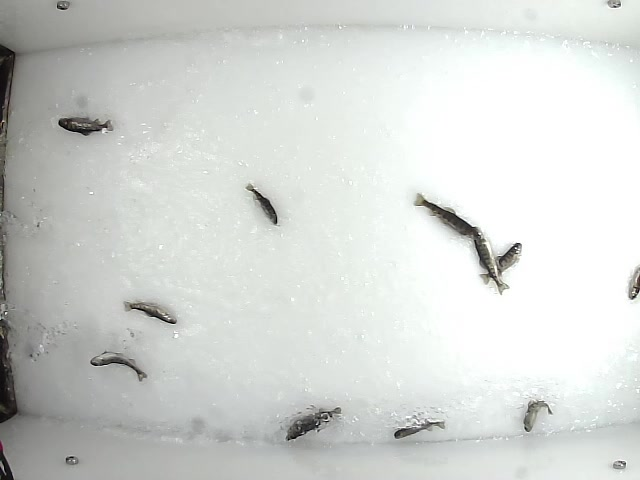fish: (410, 191, 479, 239), (474, 225, 513, 294), (282, 402, 344, 443), (477, 240, 524, 286), (88, 349, 152, 381), (242, 180, 282, 229), (120, 298, 180, 325), (55, 116, 116, 140), (391, 416, 448, 439), (521, 397, 555, 429)
